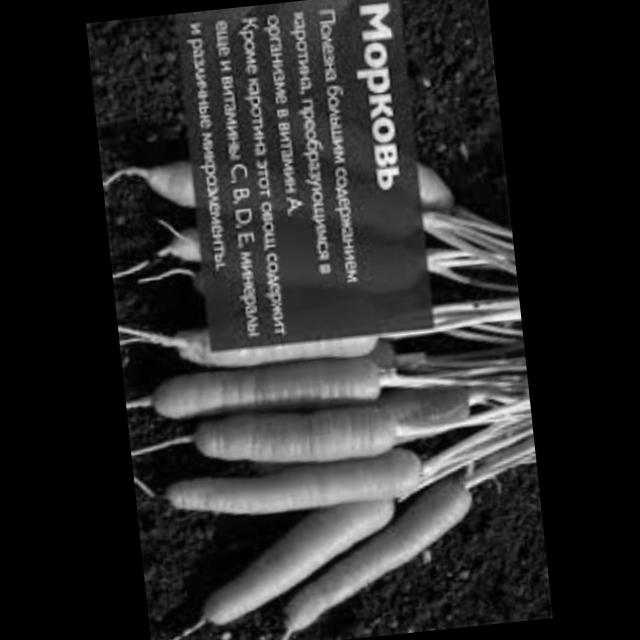ca rot: (245, 470, 497, 640), (163, 481, 420, 640), (141, 438, 442, 546), (146, 392, 426, 492), (125, 342, 408, 433), (131, 299, 398, 380), (386, 374, 489, 448), (411, 148, 472, 236)
